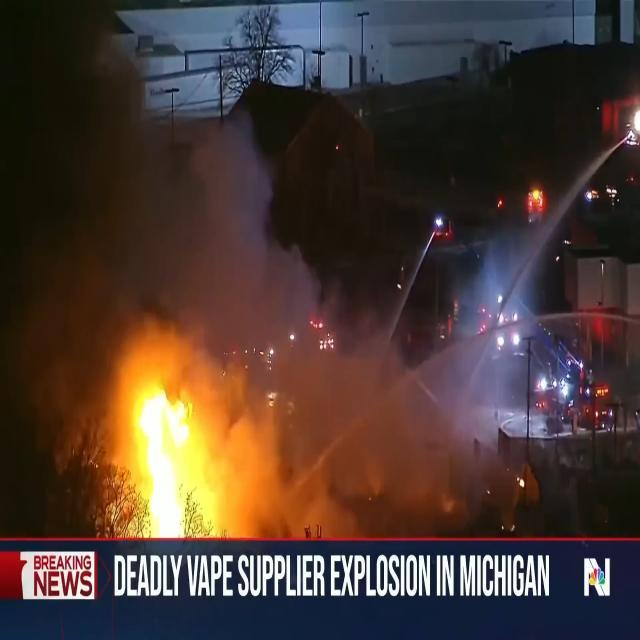fire: (127, 380, 225, 538)
